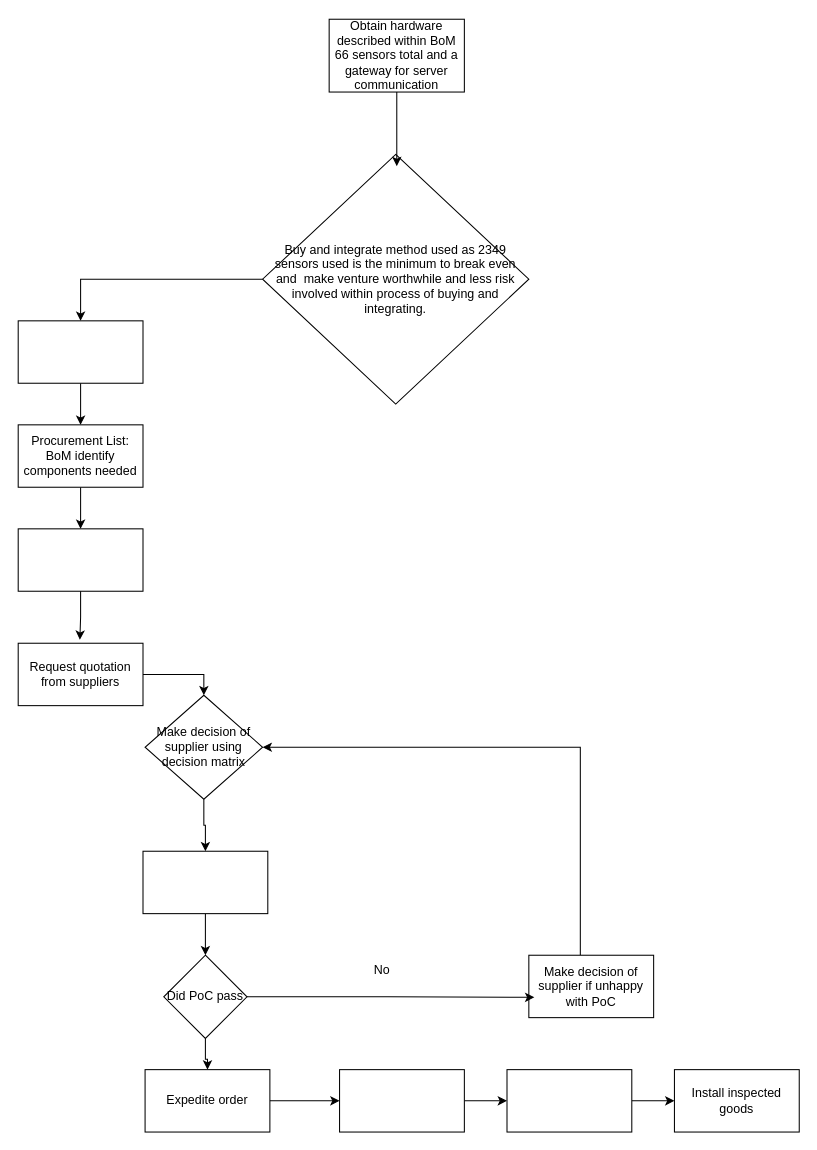
Some shapes in this 817 by 1150 pixel diagram are drawn without their labels. The centre of each missing label's shape, as x and y in pixels:
Procurement management: Helen Baker (head of procurement UWE): the point at 80,351
Raise order for PoC: the point at 205,882
Receive and inspect goods: the point at 569,1100
Vendor list: Siemens, Milesight and Schneider electronics: the point at 80,559
Wait for transportation of goods: the point at 401,1100
